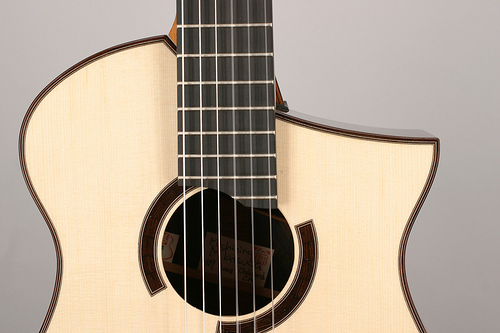guitar: (14, 1, 439, 333)
